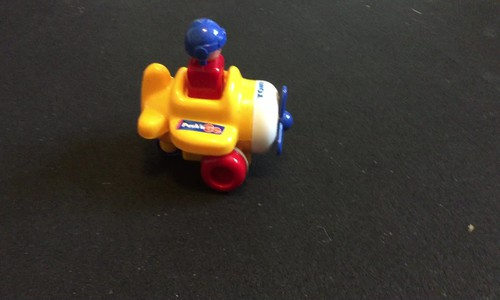toy: (129, 12, 294, 195)
